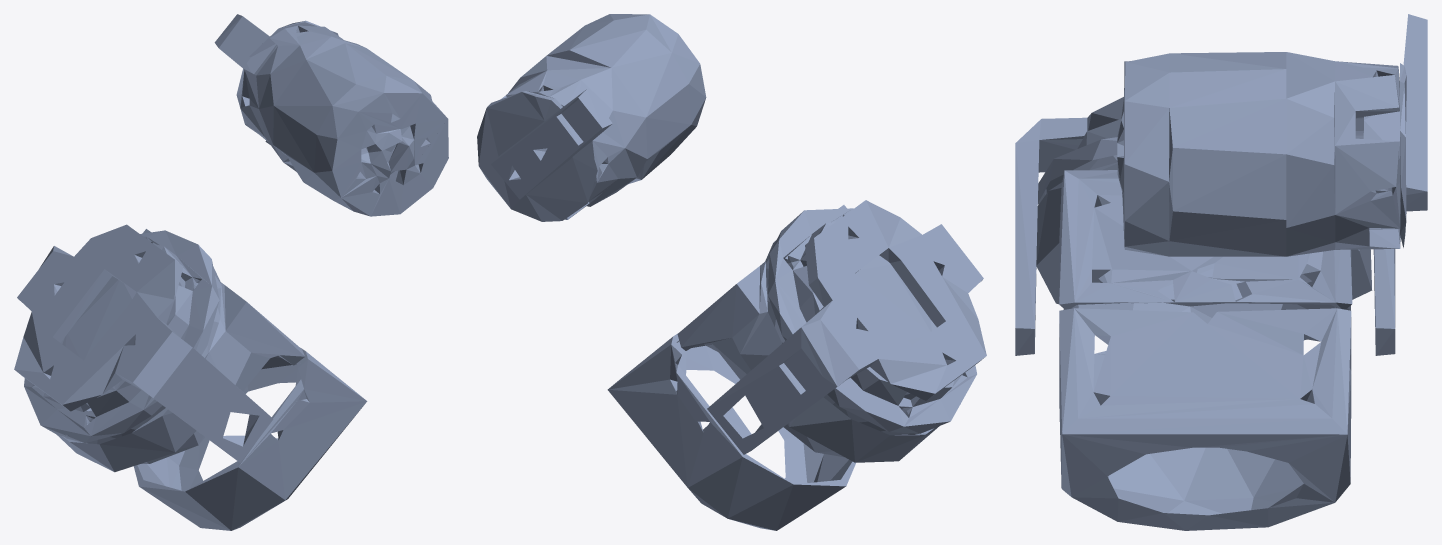
The picture shows the model from 3 angles, left to right: view 1: azimuth 30°, elevation 25°; view 2: azimuth 150°, elevation 25°; view 3: azimuth 270°, elevation 25°; orthographic projection. The views are drawn at different scales.
Parts seen in each view (by area): view 1: M6L; view 2: M6L; view 3: M6L.
Part boxes in pixels (x1,y1,x2,y2): M6L: [14, 14, 448, 530]; M6L: [477, 14, 986, 530]; M6L: [1015, 14, 1427, 530].
Size of the model in its own units: 0.0979 by 0.0635 by 0.102.
